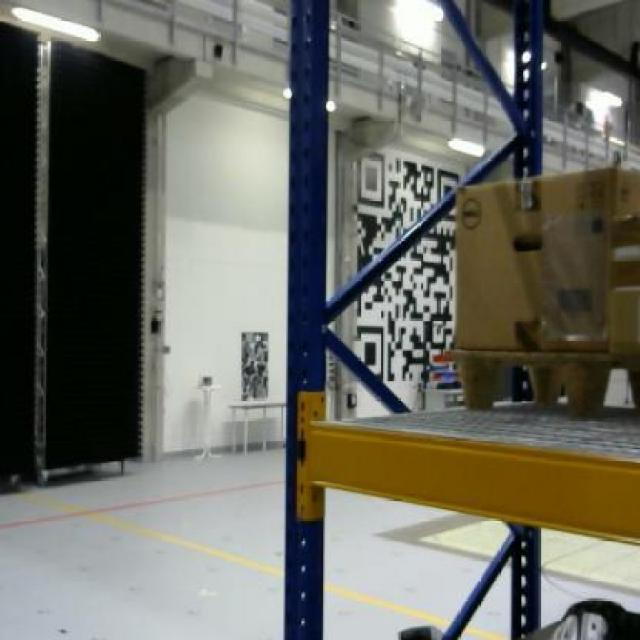box: (458, 167, 639, 358)
